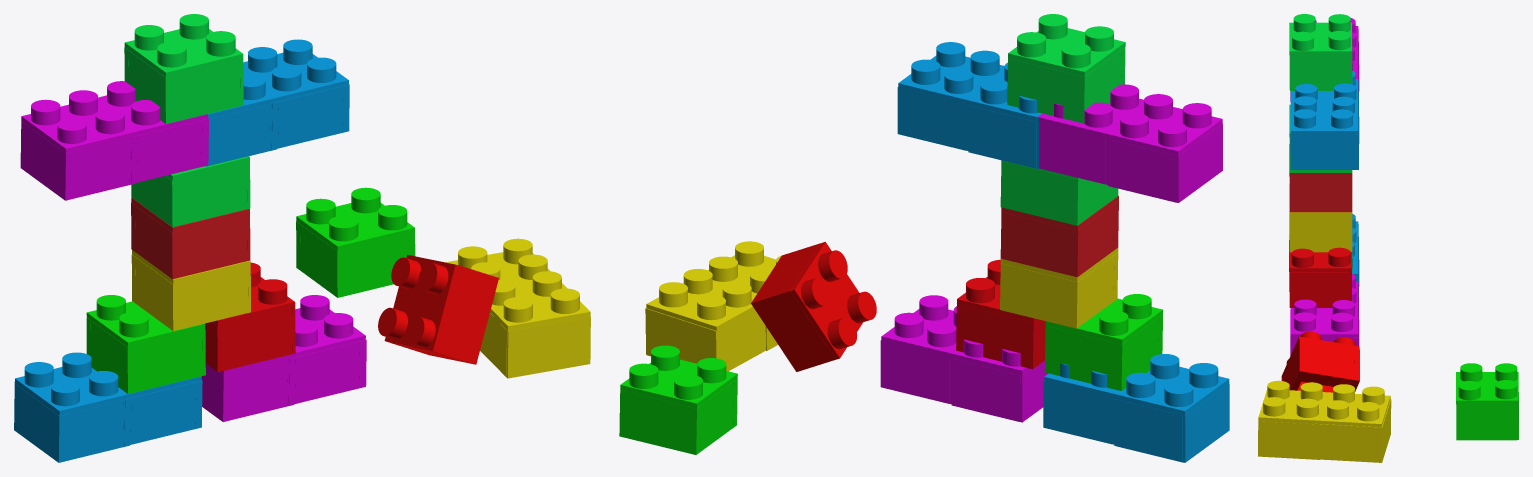
File: blocks.glb
3 renders of one model, left to right at view 1: azimuth 30°, elevation 25°; view 2: azimuth 150°, elevation 25°; view 3: azimuth 270°, elevation 25°, orthographic. The views are drawn at different scales.
Parts seen in each view (by area): view 1: nodes[122], nodes[67], nodes[76], nodes[40], nodes[119], nodes[58], nodes[49], nodes[145], nodes[154], nodes[24], nodes[103], nodes[7] (+64 smaller); view 2: nodes[155], nodes[50], nodes[68], nodes[77], nodes[59], nodes[146], nodes[120], nodes[41], nodes[101], nodes[5], nodes[84], nodes[22] (+67 smaller); view 3: nodes[92], nodes[65], nodes[152], nodes[47], nodes[129], nodes[117], nodes[38], nodes[125], nodes[128], nodes[147], nodes[82], nodes[3] (+37 smaller).
Part boxes in pixels (x1,y1,x2,y2): nodes[122]: (507, 317, 590, 378); nodes[67]: (168, 215, 247, 279); nodes[76]: (168, 163, 247, 227); nodes[40]: (213, 308, 292, 372); nodes[119]: (161, 59, 240, 123); nodes[58]: (123, 329, 202, 393); nodes[49]: (169, 266, 248, 331); nodes[145]: (438, 265, 498, 361); nodes[154]: (333, 233, 412, 297); nodes[24]: (124, 380, 201, 446); nodes[103]: (131, 118, 207, 183); nodes[7]: (288, 340, 365, 405); nodes[155]: (619, 390, 700, 454); nodes[50]: (1000, 263, 1081, 328); nodes[68]: (1000, 212, 1081, 277); nodes[77]: (1000, 160, 1081, 225); nodes[59]: (1044, 326, 1126, 390); nodes[146]: (751, 286, 835, 371); nodes[120]: (1007, 58, 1088, 123); nodes[41]: (956, 304, 1037, 369); nodes[101]: (1107, 139, 1176, 202); nodes[5]: (951, 358, 1020, 421); nodes[84]: (968, 105, 1036, 168); nodes[22]: (1114, 399, 1182, 462); nodes[92]: (1290, 134, 1356, 169); nodes[65]: (1289, 176, 1350, 212); nodes[152]: (1456, 404, 1516, 440); nodes[47]: (1289, 216, 1350, 252); nodes[129]: (1315, 423, 1381, 462); nodes[117]: (1289, 55, 1350, 90); nodes[38]: (1289, 272, 1349, 307); nodes[125]: (1258, 389, 1390, 427); nodes[128]: (1263, 421, 1314, 459); nodes[147]: (1299, 340, 1357, 381); nodes[82]: (1290, 79, 1358, 134); nodes[3]: (1290, 281, 1358, 337).
Bounding box in the file's own units: 0.00784 × 0.00557 × 0.00441.
16 materials, 16 textured.
